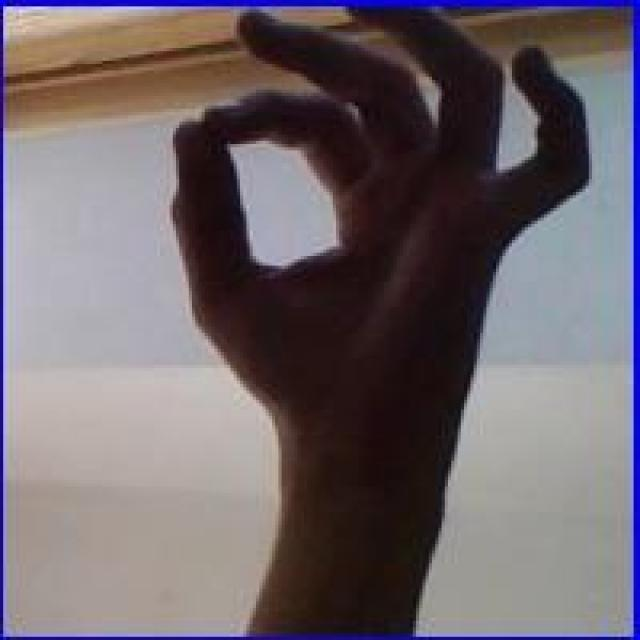F: (164, 5, 594, 446)
